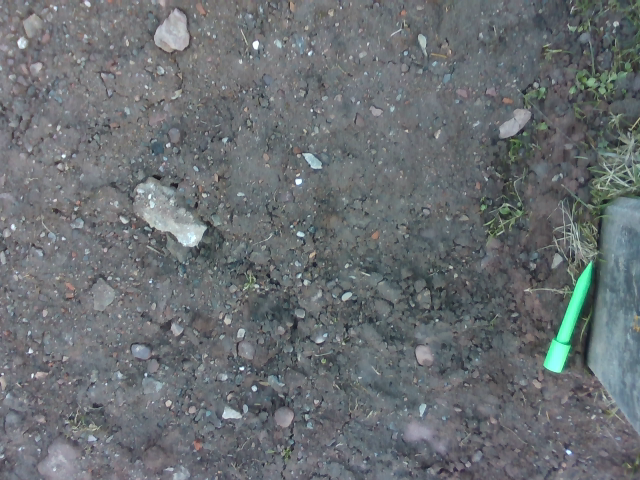Probe: (540, 254, 596, 380)
